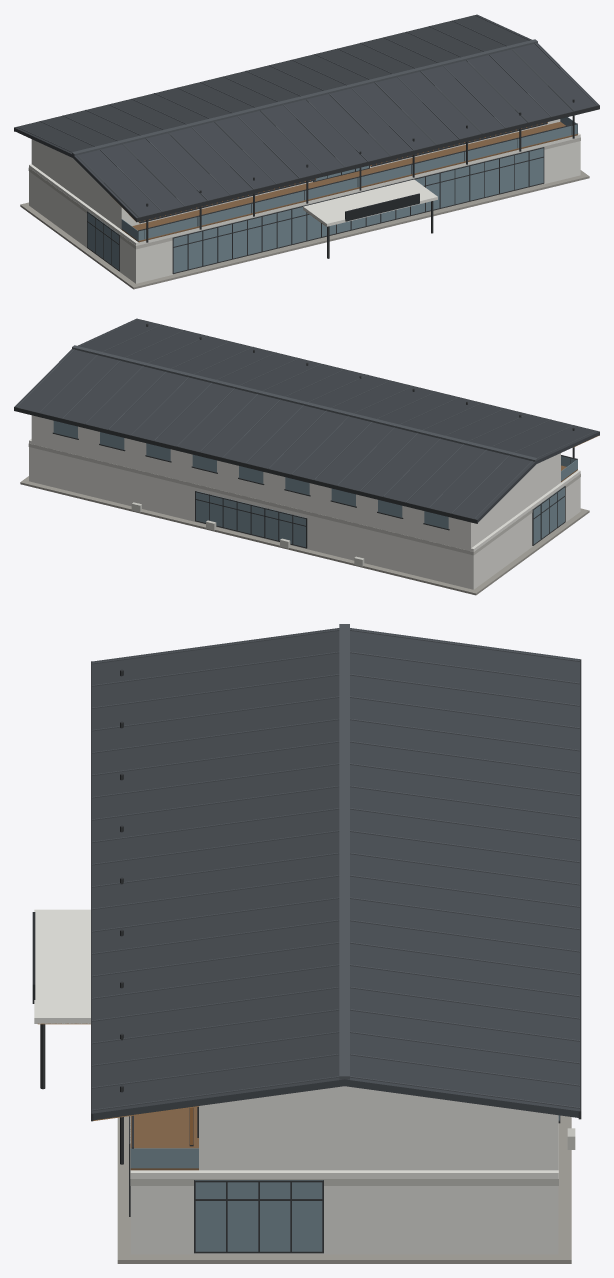
Rendered from station.glb.
The picture shows the model from 3 angles, top to bottom: view 1: azimuth 30°, elevation 25°; view 2: azimuth 150°, elevation 25°; view 3: azimuth 270°, elevation 25°; orthographic projection. The views are drawn at different scales.
Visible parts, largest first — view 1: jr_onomichi_station; view 2: jr_onomichi_station; view 3: jr_onomichi_station.
Boxes of the visible parts, bbox=[...] form: jr_onomichi_station: bbox=[14, 14, 599, 289]; jr_onomichi_station: bbox=[14, 318, 599, 595]; jr_onomichi_station: bbox=[32, 624, 581, 1263].
Size of the model in its own units: 50 by 9.86 by 25.64.
